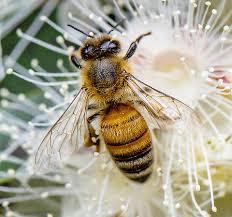Apis-mellifera-scutellata: (33, 13, 199, 182)
